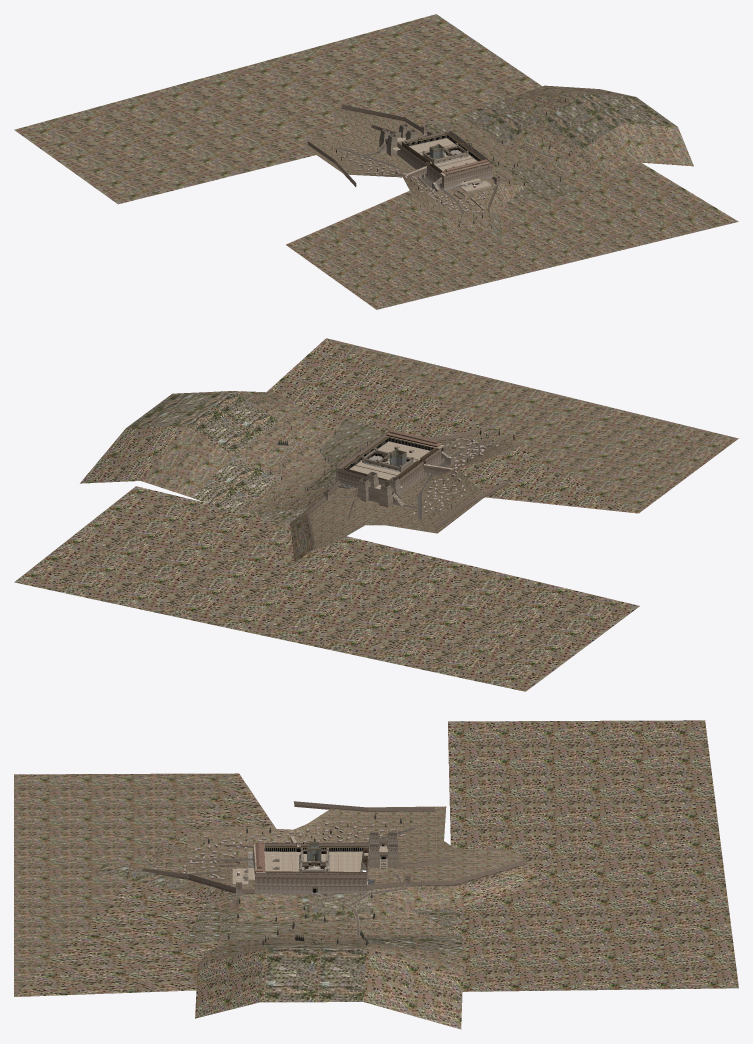
The model's file is temple.obj.
3 renders of one model, top to bottom at view 1: azimuth 30°, elevation 25°; view 2: azimuth 150°, elevation 25°; view 3: azimuth 270°, elevation 25°, orthographic. The views are drawn at different scales.
Visible parts, largest first — view 1: surface.002_model.ms3d.mGeometry.006, surface.003_model.ms3d.mGeometry.007, surface.001_model.ms3d.mGeometry.003, wall.004_model.ms3d.mGeometry.013, surface.005_model.ms3d.mGeometry.009, houseswest_model.ms3d.mGeometry.036, wall.007_model.ms3d.mGeometry.070; view 2: surface.002_model.ms3d.mGeometry.006, surface.003_model.ms3d.mGeometry.007, surface.001_model.ms3d.mGeometry.003, wall.004_model.ms3d.mGeometry.013, wall.007_model.ms3d.mGeometry.070, surface.005_model.ms3d.mGeometry.009, houseswest_model.ms3d.mGeometry.036; view 3: surface.002_model.ms3d.mGeometry.006, surface.003_model.ms3d.mGeometry.007, surface.001_model.ms3d.mGeometry.003, wall.004_model.ms3d.mGeometry.013, surface.005_model.ms3d.mGeometry.009, houseswest_model.ms3d.mGeometry.036, wall.007_model.ms3d.mGeometry.070, model.ms3d.mo.028_model.ms3d.mGeometry.029.
Boxes of the visible parts, x1,y1,x2,y2 form: surface.002_model.ms3d.mGeometry.006: [14, 14, 738, 309]; surface.003_model.ms3d.mGeometry.007: [427, 93, 677, 246]; surface.001_model.ms3d.mGeometry.003: [298, 108, 494, 230]; wall.004_model.ms3d.mGeometry.013: [307, 104, 500, 228]; surface.005_model.ms3d.mGeometry.009: [393, 137, 491, 192]; houseswest_model.ms3d.mGeometry.036: [342, 148, 485, 213]; wall.007_model.ms3d.mGeometry.070: [379, 124, 478, 184]; surface.002_model.ms3d.mGeometry.006: [14, 338, 738, 691]; surface.003_model.ms3d.mGeometry.007: [126, 391, 384, 523]; surface.001_model.ms3d.mGeometry.003: [308, 428, 525, 548]; wall.004_model.ms3d.mGeometry.013: [307, 427, 508, 549]; wall.007_model.ms3d.mGeometry.070: [357, 471, 401, 507]; surface.005_model.ms3d.mGeometry.009: [350, 436, 455, 489]; houseswest_model.ms3d.mGeometry.036: [413, 438, 498, 515]; surface.002_model.ms3d.mGeometry.006: [14, 720, 738, 1029]; surface.003_model.ms3d.mGeometry.007: [97, 862, 462, 1002]; surface.001_model.ms3d.mGeometry.003: [144, 806, 523, 893]; wall.004_model.ms3d.mGeometry.013: [142, 801, 526, 896]; surface.005_model.ms3d.mGeometry.009: [232, 835, 388, 886]; houseswest_model.ms3d.mGeometry.036: [183, 821, 405, 880]; wall.007_model.ms3d.mGeometry.070: [243, 832, 398, 878]; model.ms3d.mo.028_model.ms3d.mGeometry.029: [271, 873, 408, 941].
Bounding box in the file's own units: 169 × 12.98 × 172.
Materials: 46 (46 with a texture image).
